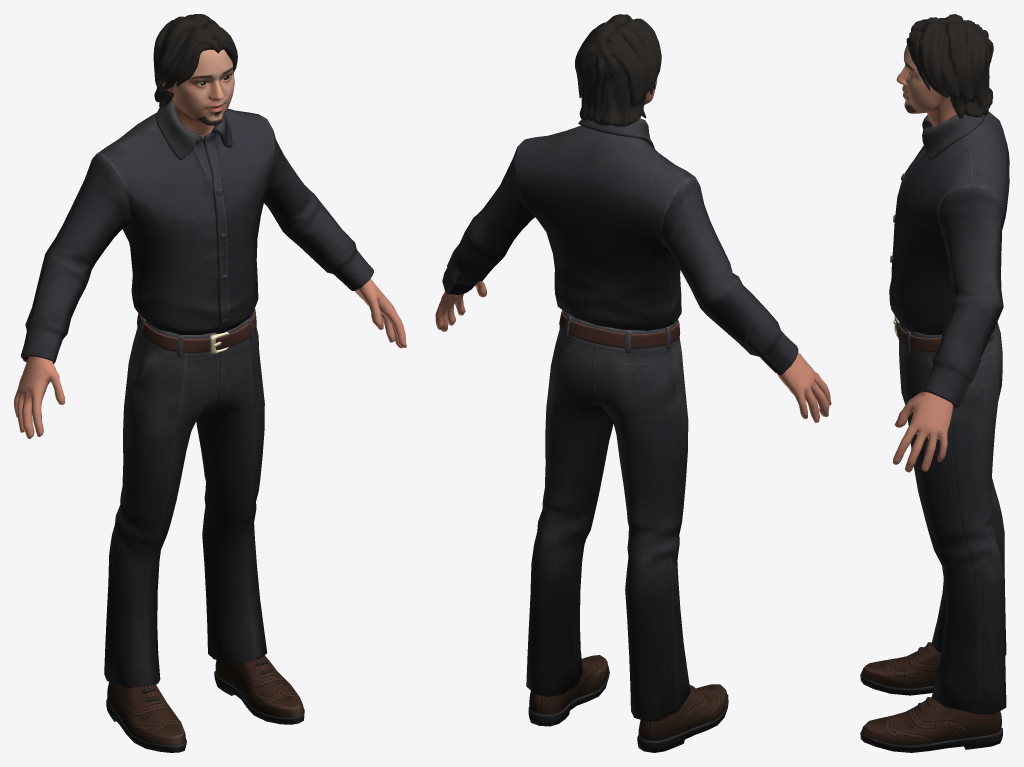
The model's file is luislargo.glb.
The picture shows the model from 3 angles, left to right: view 1: azimuth 30°, elevation 25°; view 2: azimuth 150°, elevation 25°; view 3: azimuth 270°, elevation 25°; orthographic projection.
Visible parts, largest first — view 1: Wolf3D_Outfit_Top.004, Wolf3D_Outfit_Bottom.004, Wolf3D_Outfit_Footwear.004, Wolf3D_Hair.001, Wolf3D_Body.004, Wolf3D_Head.004; view 2: Wolf3D_Outfit_Bottom.004, Wolf3D_Outfit_Top.004, Wolf3D_Hair.001, Wolf3D_Outfit_Footwear.004, Wolf3D_Body.004; view 3: Wolf3D_Outfit_Top.004, Wolf3D_Outfit_Bottom.004, Wolf3D_Outfit_Footwear.004, Wolf3D_Hair.001, Wolf3D_Body.004, Wolf3D_Head.004.
Boxes of the visible parts, x1,y1,x2,y2 form: Wolf3D_Outfit_Top.004: (21, 97, 373, 363); Wolf3D_Outfit_Bottom.004: (104, 309, 267, 688); Wolf3D_Outfit_Footwear.004: (106, 654, 304, 752); Wolf3D_Hair.001: (153, 14, 237, 107); Wolf3D_Body.004: (14, 279, 406, 438); Wolf3D_Head.004: (162, 49, 234, 139); Wolf3D_Outfit_Bottom.004: (526, 310, 690, 721); Wolf3D_Outfit_Top.004: (442, 118, 798, 375); Wolf3D_Hair.001: (575, 14, 661, 126); Wolf3D_Outfit_Footwear.004: (528, 655, 728, 752); Wolf3D_Body.004: (435, 281, 831, 422); Wolf3D_Outfit_Top.004: (889, 111, 1009, 407); Wolf3D_Outfit_Bottom.004: (893, 315, 1006, 714); Wolf3D_Outfit_Footwear.004: (860, 642, 1002, 752); Wolf3D_Hair.001: (906, 14, 993, 118); Wolf3D_Body.004: (892, 392, 953, 472); Wolf3D_Head.004: (896, 44, 956, 126).
Size of the model in its own units: 1.06 by 1.85 by 0.3595.
Materials: 8 (8 with a texture image).
